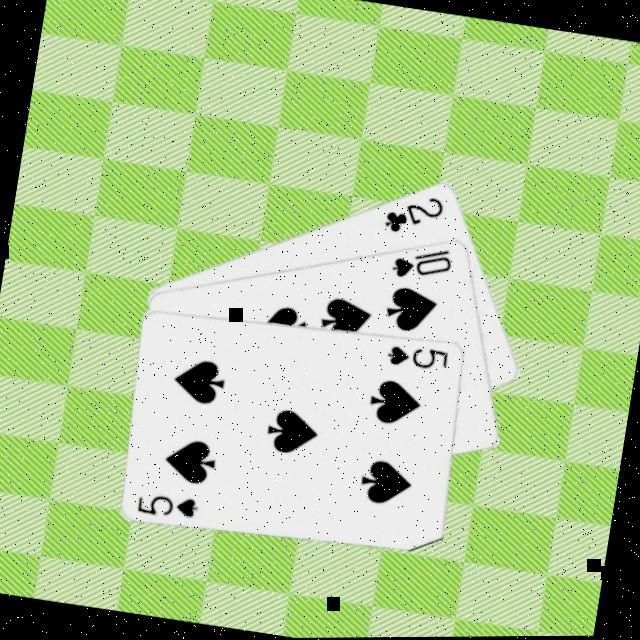10S: (386, 239, 456, 289)
2C: (378, 188, 448, 245)
5S: (132, 488, 203, 526), (382, 339, 452, 376)
